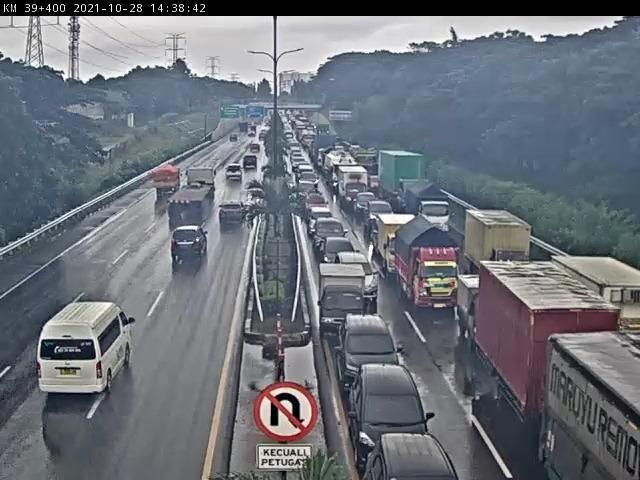bus: (43, 299, 144, 405)
car: (349, 366, 447, 449), (330, 316, 421, 378), (363, 433, 464, 480), (339, 251, 392, 301), (169, 223, 210, 265), (304, 213, 351, 243), (214, 195, 253, 231), (317, 236, 358, 262), (366, 202, 397, 229), (352, 193, 380, 218), (300, 193, 334, 210), (224, 164, 244, 186), (240, 155, 263, 172)
truck: (477, 263, 619, 412), (546, 335, 640, 480), (546, 252, 640, 351), (388, 219, 463, 315), (467, 205, 536, 269), (316, 262, 371, 330), (375, 213, 419, 275), (172, 168, 222, 220), (377, 152, 423, 207), (402, 184, 458, 219), (456, 273, 488, 334), (336, 169, 375, 206), (150, 165, 185, 201)
